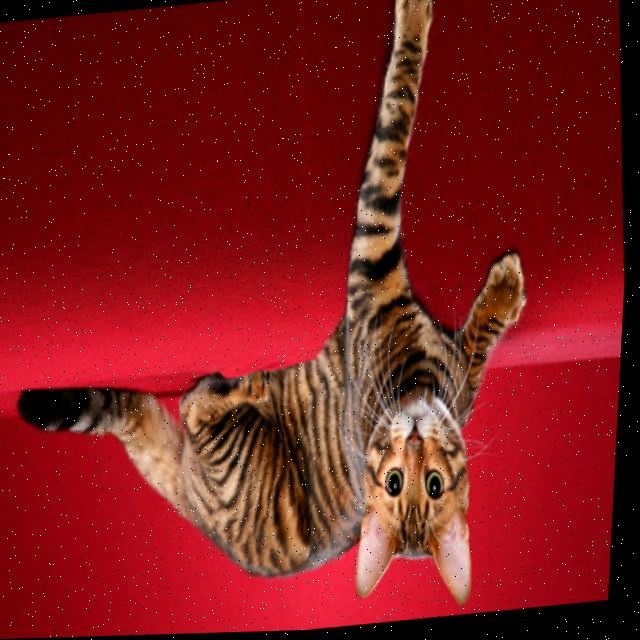Toyger: (0, 0, 563, 640)
